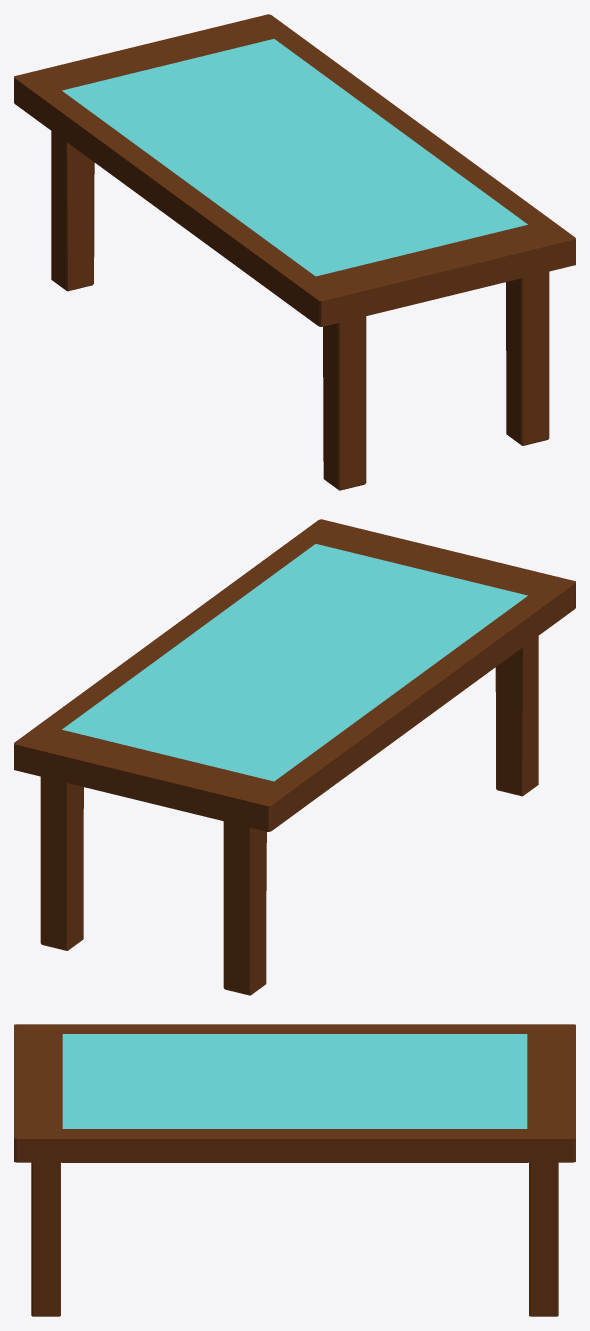
File: CoffeeTable.fbx
The picture shows the model from 3 angles, top to bottom: view 1: azimuth 30°, elevation 25°; view 2: azimuth 150°, elevation 25°; view 3: azimuth 270°, elevation 25°; orthographic projection. The views are drawn at different scales.
Parts seen in each view (by area): view 1: Cube.023; view 2: Cube.023; view 3: Cube.023.
Part boxes in pixels (left/top/right/bottom): Cube.023: left=14, top=14, right=575, bottom=490; Cube.023: left=14, top=519, right=575, bottom=995; Cube.023: left=14, top=1024, right=575, bottom=1316.
Bounding box in the file's own units: 91.94 × 69.69 × 190.
